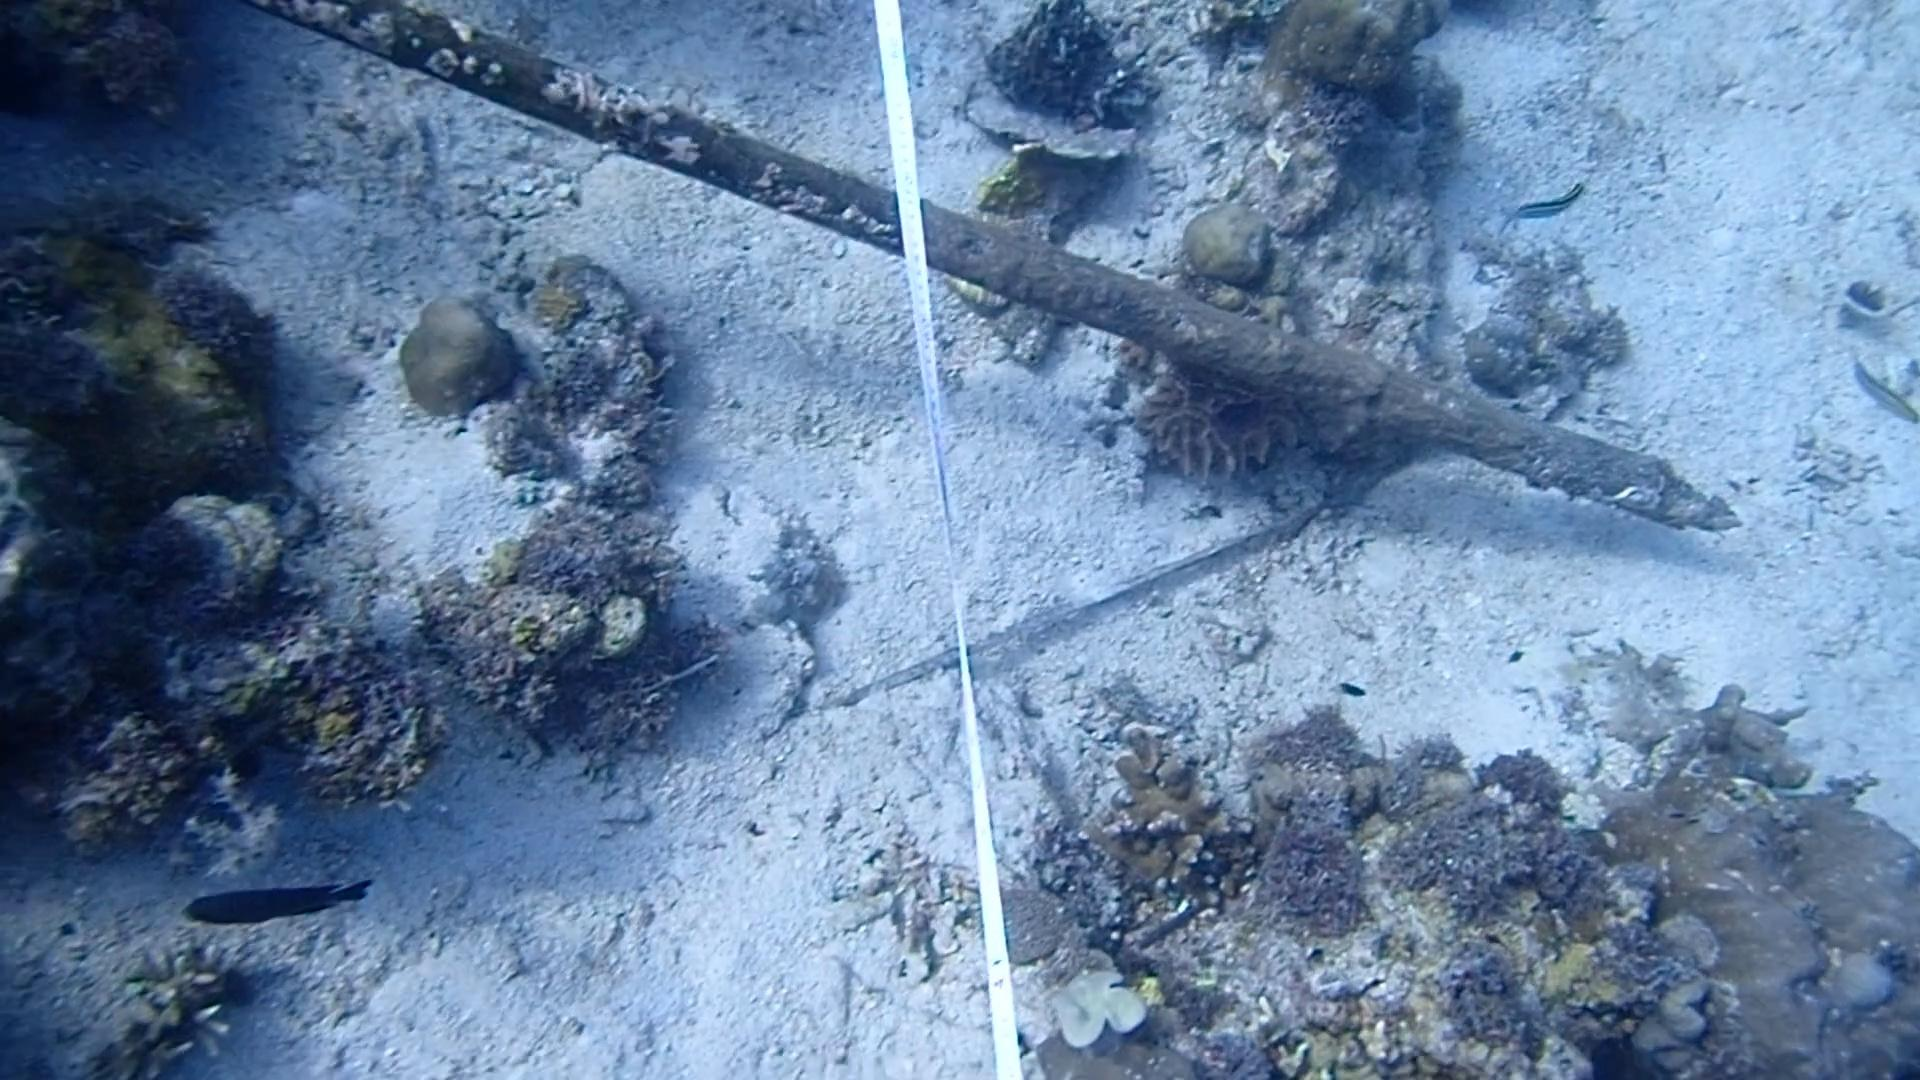Dark Fish: (181, 873, 380, 931)
Striped Fish: (1836, 344, 1920, 436), (1498, 175, 1589, 232)
